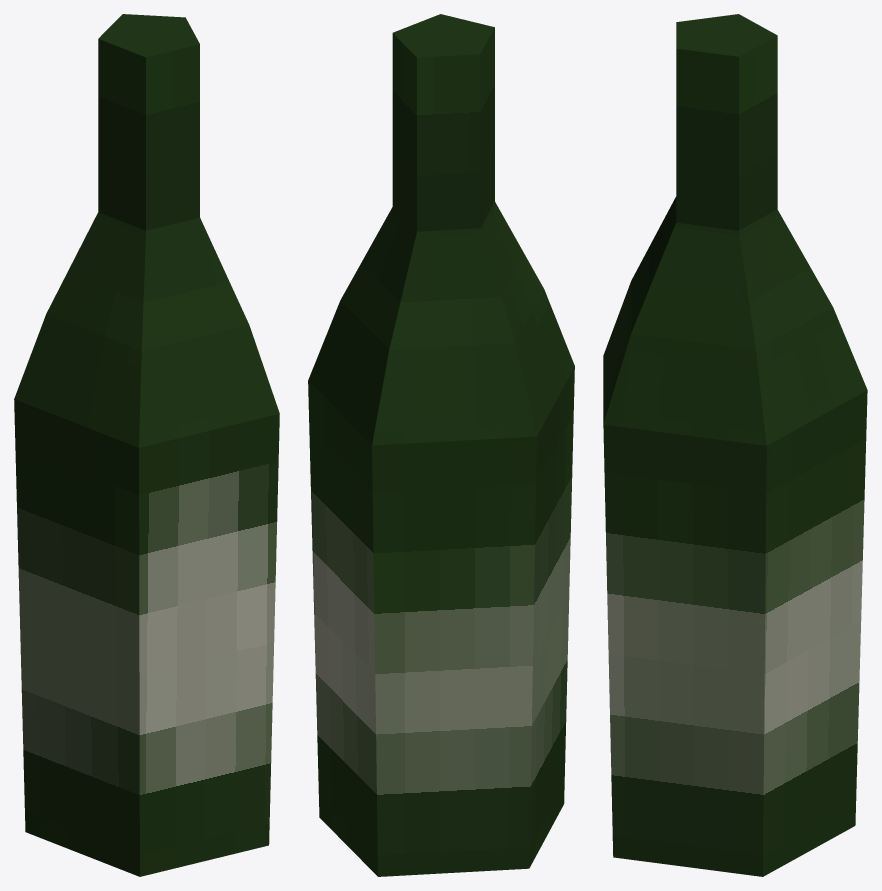
3 renders of one model, left to right at view 1: azimuth 30°, elevation 25°; view 2: azimuth 150°, elevation 25°; view 3: azimuth 270°, elevation 25°, orthographic.
Visible parts, largest first — view 1: Cylinder; view 2: Cylinder; view 3: Cylinder.
Part boxes in pixels (x1=…): Cylinder: x1=14, y1=14, x2=279, y2=876; Cylinder: x1=308, y1=14, x2=574, y2=876; Cylinder: x1=603, y1=14, x2=867, y2=876.
Bounding box in the file's own units: 5.45 × 18 × 5.45.
1 material, 1 textured.
